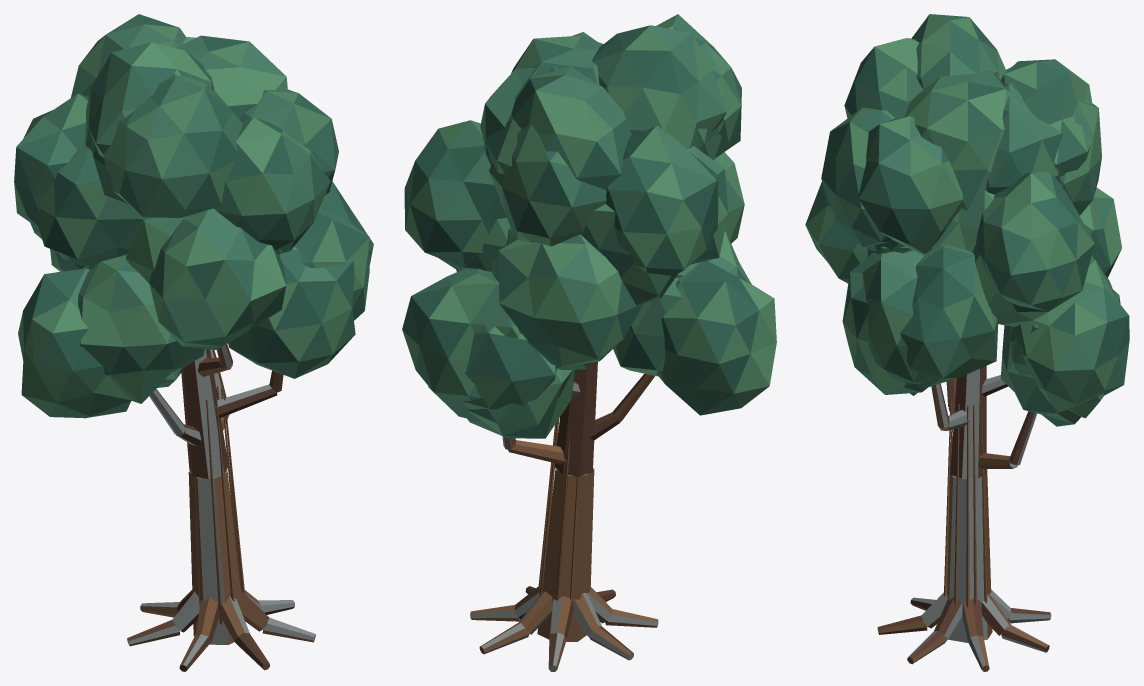
File: dark_tree_b.glb
3 views of the same model, side by side, from view 1: azimuth 30°, elevation 25°; view 2: azimuth 150°, elevation 25°; view 3: azimuth 270°, elevation 25° (orthographic). The views are drawn at different scales.
Visible parts, largest first — view 1: dark_tree_b; view 2: dark_tree_b; view 3: dark_tree_b.
Part boxes in pixels (<box>): dark_tree_b: <box>14,14,373,671</box>; dark_tree_b: <box>402,14,776,671</box>; dark_tree_b: <box>805,14,1129,671</box>.
Size of the model in its own units: 3.41 by 6.07 by 3.08.
